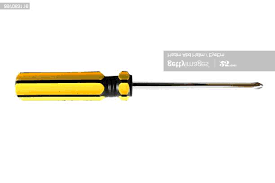screwdriver: (12, 67, 267, 107)
